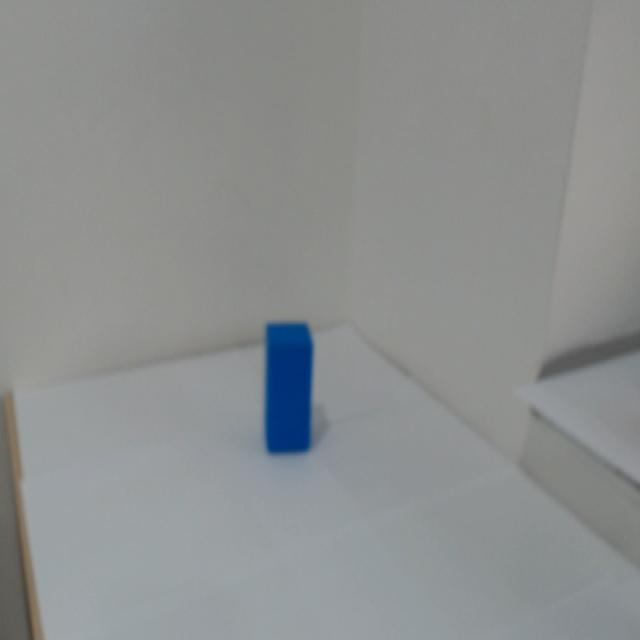cube: (265, 290, 334, 473)
